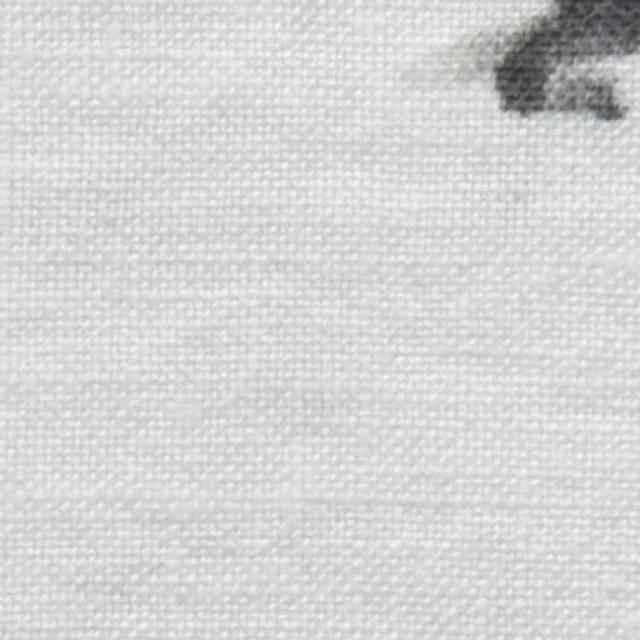Stain: (488, 2, 640, 125)
